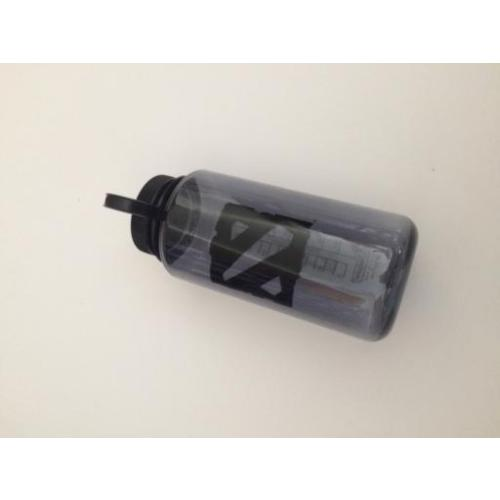plastic: (130, 169, 416, 345)
